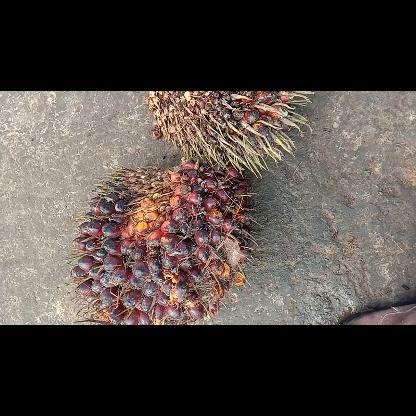Kurang masak: (70, 156, 258, 324)
TBS abnormal: (145, 91, 312, 177)
